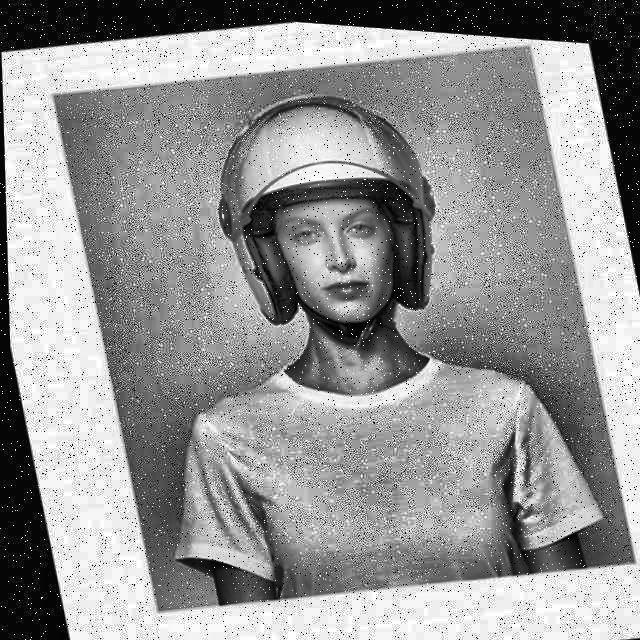Helmet: (184, 57, 474, 382)
